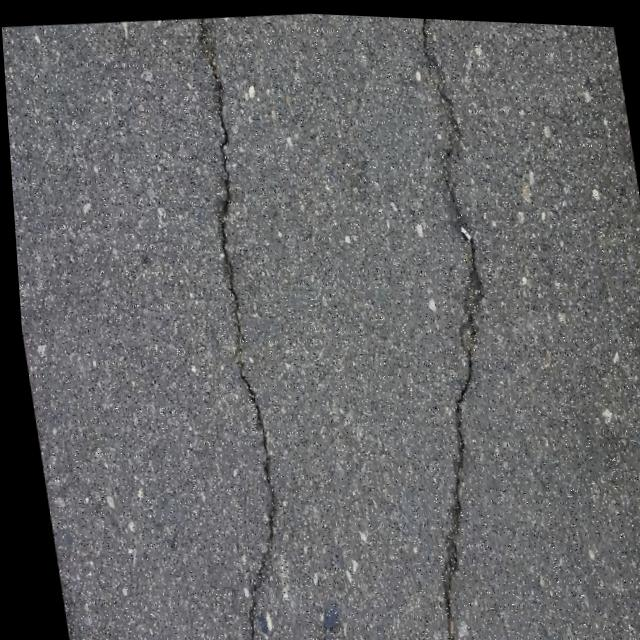Crack: (334, 12, 538, 640), (142, 13, 308, 640)
